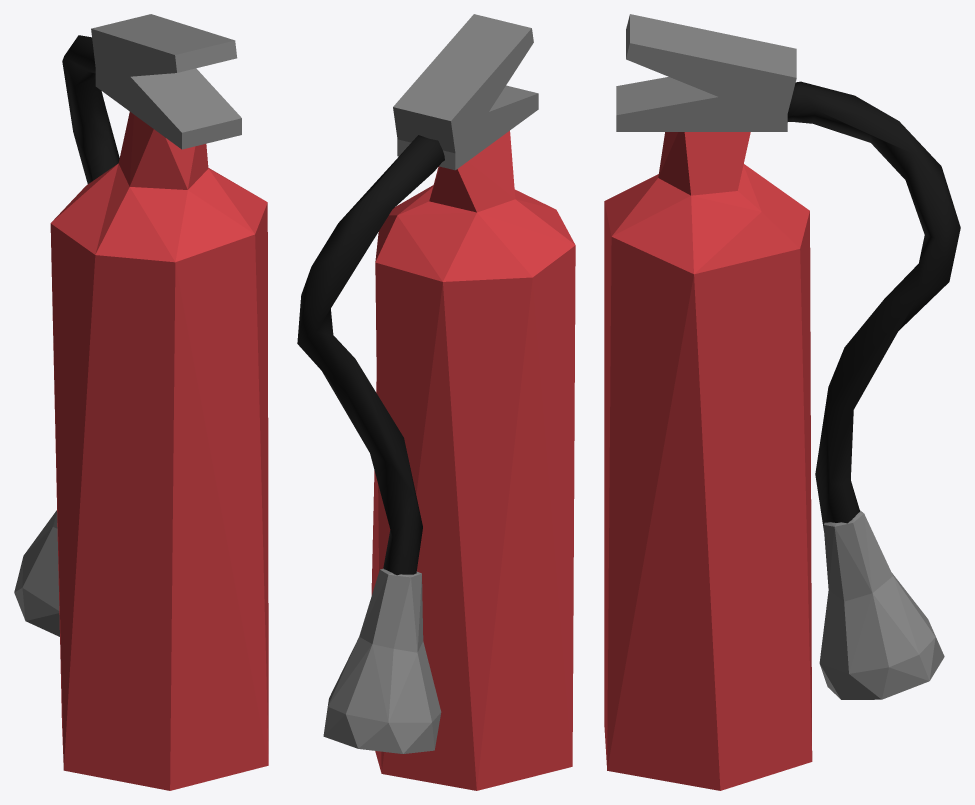
Rendered from fireextinguisher.fbx.
3 views of the same model, side by side, from view 1: azimuth 30°, elevation 25°; view 2: azimuth 150°, elevation 25°; view 3: azimuth 270°, elevation 25° (orthographic). The views are drawn at different scales.
Parts seen in each view (by area): view 1: Sphere, Cube_001, BezierCurve, Circle_002; view 2: Sphere, BezierCurve, Circle_002, Cube_001; view 3: Sphere, BezierCurve, Cube_001, Circle_002.
Boxes of the visible parts, <box> form: Sphere: <box>50,112,268,790</box>; Cube_001: <box>91,14,241,149</box>; BezierCurve: <box>62,35,119,183</box>; Circle_002: <box>14,510,59,636</box>; Sphere: <box>371,131,575,790</box>; BezierCurve: <box>297,135,444,575</box>; Circle_002: <box>323,568,441,753</box>; Cube_001: <box>393,14,538,170</box>; Sphere: <box>604,132,812,790</box>; BezierCurve: <box>787,81,960,530</box>; Cube_001: <box>616,14,796,131</box>; Circle_002: <box>819,510,944,699</box>.
Bounding box in the file's own units: 0.697 × 2.38 × 1.07.
